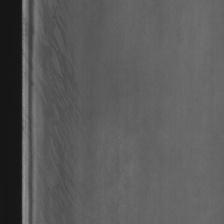water_spot: (38, 1, 84, 222)
